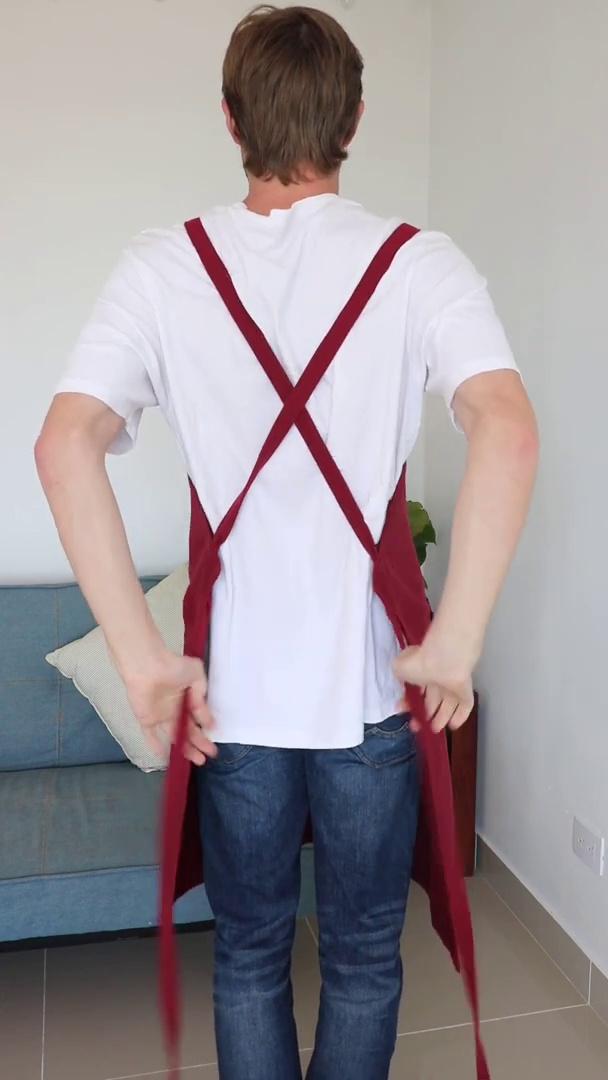Apron: (173, 217, 423, 761)
No_Glove: (124, 635, 232, 769), (383, 638, 482, 751)
No_Hairnet: (208, 5, 378, 171)
